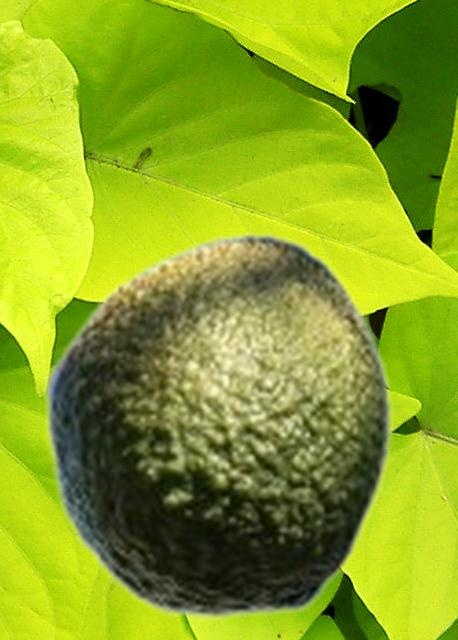avocado: (42, 232, 392, 618)
